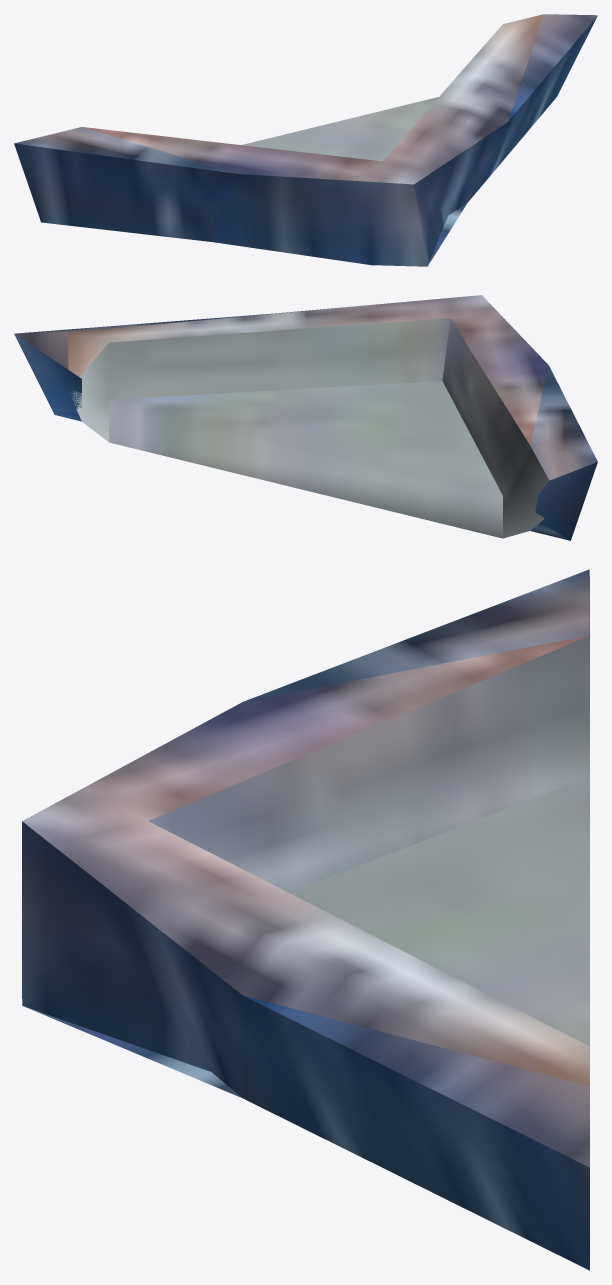
3 renders of one model, top to bottom at view 1: azimuth 30°, elevation 25°; view 2: azimuth 150°, elevation 25°; view 3: azimuth 270°, elevation 25°, orthographic. The views are drawn at different scales.
Visible parts, largest first — view 1: 30436272704361634762_0; view 2: 30436272704361634762_0; view 3: 30436272704361634762_0.
Part boxes in pixels (<box>): 30436272704361634762_0: <box>14,14,597,266</box>; 30436272704361634762_0: <box>14,295,597,540</box>; 30436272704361634762_0: <box>22,569,589,1270</box>.
Size of the model in its own units: 6.6 by 1.08 by 2.78.
Materials: 1 (1 with a texture image).
